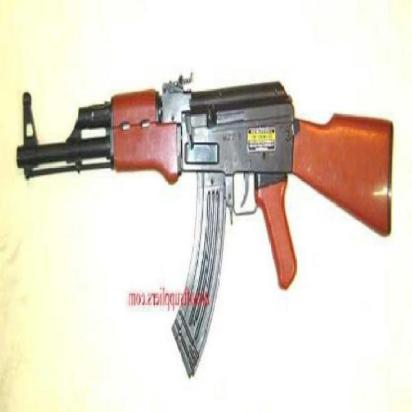Gun: (15, 76, 395, 240)
